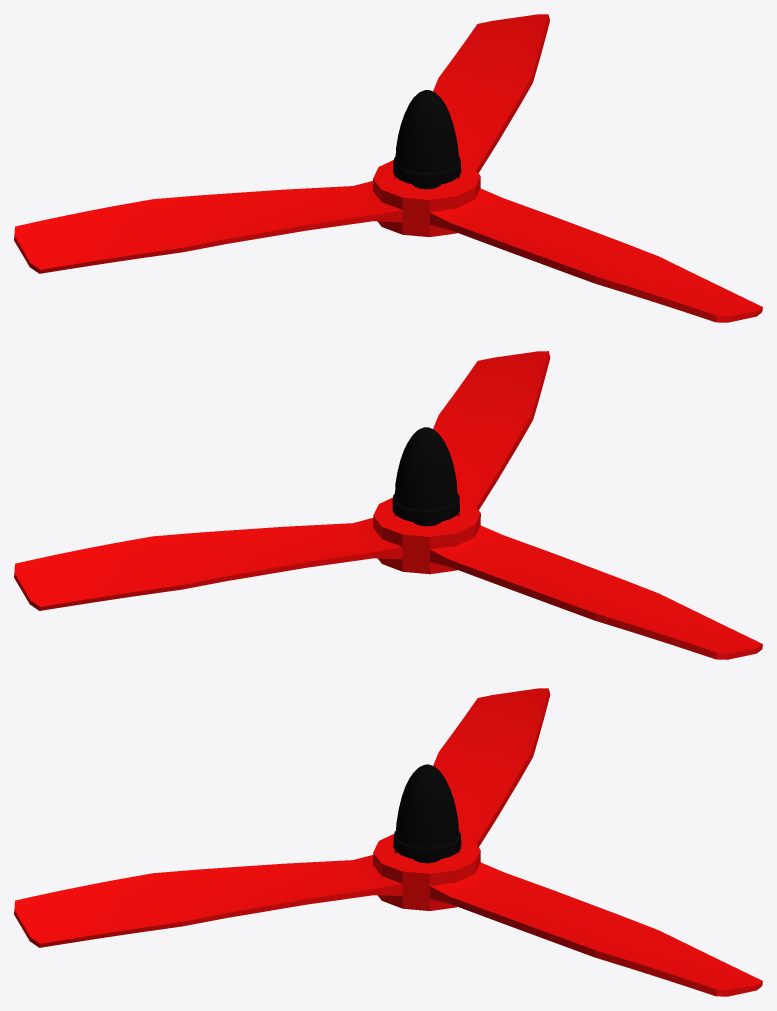
File: Helix.obj
3 renders of one model, top to bottom at view 1: azimuth 30°, elevation 25°; view 2: azimuth 150°, elevation 25°; view 3: azimuth 270°, elevation 25°, orthographic.
Visible parts, largest first — view 1: fpv-racing-drone.003_red_wire.003, fpv-racing-drone.003_Mocor_and_caps.003; view 2: fpv-racing-drone.003_red_wire.003, fpv-racing-drone.003_Mocor_and_caps.003; view 3: fpv-racing-drone.003_red_wire.003, fpv-racing-drone.003_Mocor_and_caps.003.
Boxes of the visible parts, x1,y1,x2,y2 form: fpv-racing-drone.003_red_wire.003: [14, 14, 762, 322]; fpv-racing-drone.003_Mocor_and_caps.003: [393, 90, 461, 189]; fpv-racing-drone.003_red_wire.003: [14, 351, 762, 659]; fpv-racing-drone.003_Mocor_and_caps.003: [392, 427, 459, 526]; fpv-racing-drone.003_red_wire.003: [14, 688, 762, 996]; fpv-racing-drone.003_Mocor_and_caps.003: [393, 764, 461, 863].
Bounding box in the file's own units: 0.1004 × 0.0187 × 0.1032.
